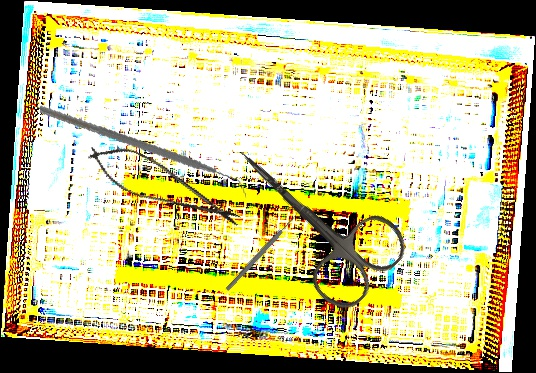Chopper: (38, 67, 248, 239)
Iris Scissors: (206, 113, 416, 320)
Micro Scissor: (80, 134, 249, 238)
Surgical Spoon: (224, 203, 308, 293)
